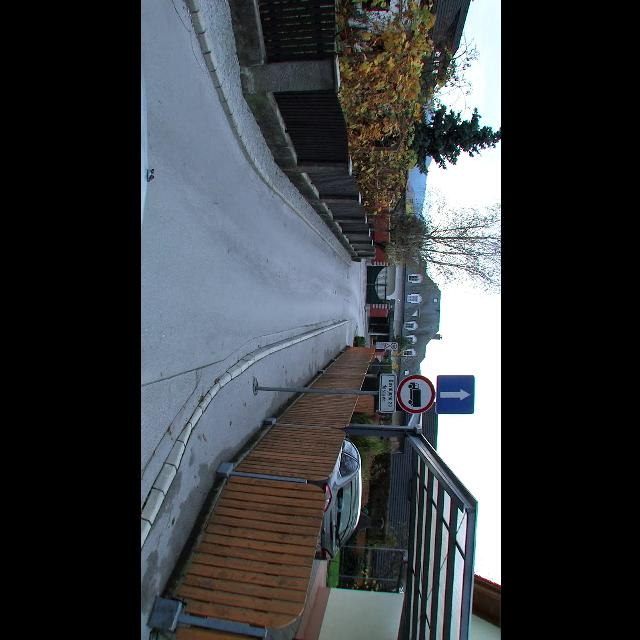Multi-inform: (374, 342, 398, 350)
Rectangle: (378, 374, 394, 412)
Round: (396, 375, 434, 413)
Squared: (434, 375, 474, 415)
